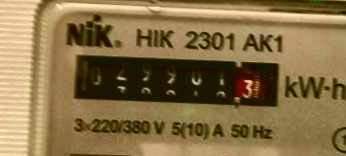0: (188, 61, 203, 87), (87, 64, 104, 85)
1: (213, 63, 227, 87)
2: (113, 62, 129, 82)
3: (240, 75, 254, 98)
9: (163, 62, 178, 85), (138, 61, 151, 84)
screen: (60, 43, 290, 117)
